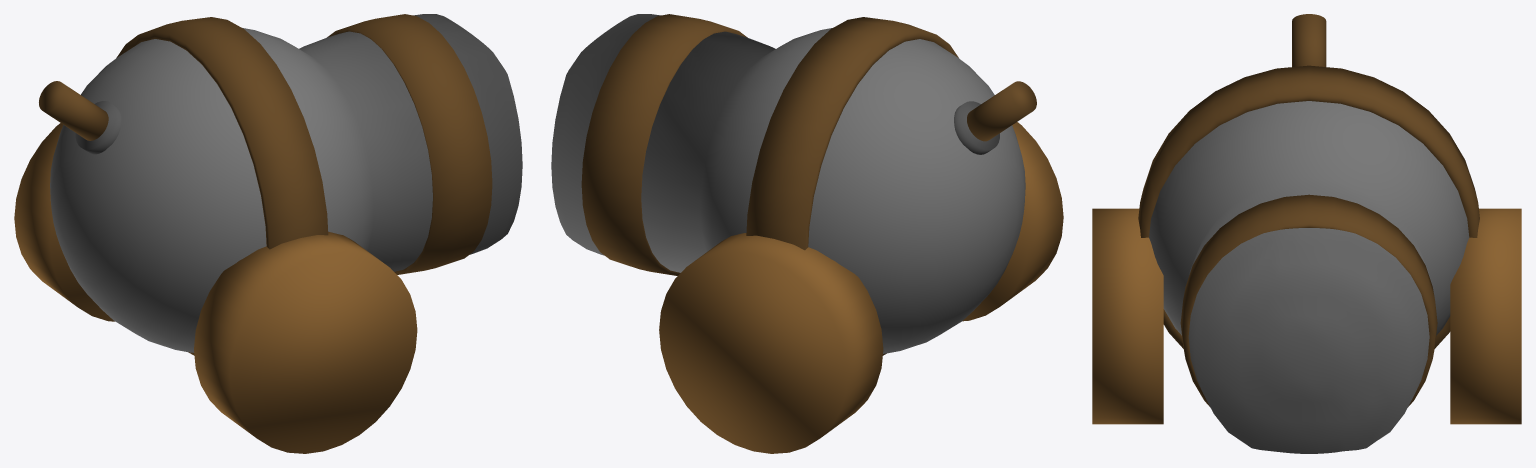
The model's file is Cannon.glb.
3 views of the same model, side by side, from view 1: azimuth 30°, elevation 25°; view 2: azimuth 150°, elevation 25°; view 3: azimuth 270°, elevation 25° (orthographic).
Parts seen in each view (by area): view 1: Sphere, Cylinder.003, Sphere.001, Sphere.004, Sphere.002, Cylinder.002, Cylinder, Cylinder.001; view 2: Sphere, Cylinder.002, Sphere.001, Sphere.004, Sphere.002, Cylinder.003, Cylinder, Cylinder.001; view 3: Sphere.001, Sphere, Cylinder.003, Cylinder.002, Sphere.002, Sphere.004, Cylinder.
Boxes of the visible parts, box(x1,y1,x2,y2) form: Sphere: box(50, 28, 374, 352); Cylinder.003: box(194, 232, 417, 453); Sphere.001: box(299, 14, 522, 271); Sphere.004: box(327, 14, 492, 274); Sphere.002: box(116, 17, 328, 355); Cylinder.002: box(14, 123, 114, 321); Cylinder: box(39, 81, 108, 140); Cylinder.001: box(75, 101, 121, 154); Sphere: box(700, 28, 1025, 353); Cylinder.002: box(659, 233, 883, 453); Sphere.001: box(551, 14, 775, 272); Sphere.004: box(581, 14, 747, 275); Sphere.002: box(746, 17, 958, 355); Cylinder.003: box(962, 122, 1063, 321); Cylinder: box(967, 81, 1036, 141); Cylinder.001: box(954, 101, 999, 154); Sphere.001: box(1188, 177, 1429, 453); Sphere: box(1149, 101, 1469, 335); Cylinder.003: box(1092, 208, 1163, 424); Cylinder.002: box(1450, 208, 1521, 424); Sphere.002: box(1138, 65, 1479, 348); Sphere.004: box(1180, 194, 1437, 406); Cylinder: box(1292, 14, 1326, 66).
Size of the model in its own units: 3.02 by 2.26 by 2.61.
